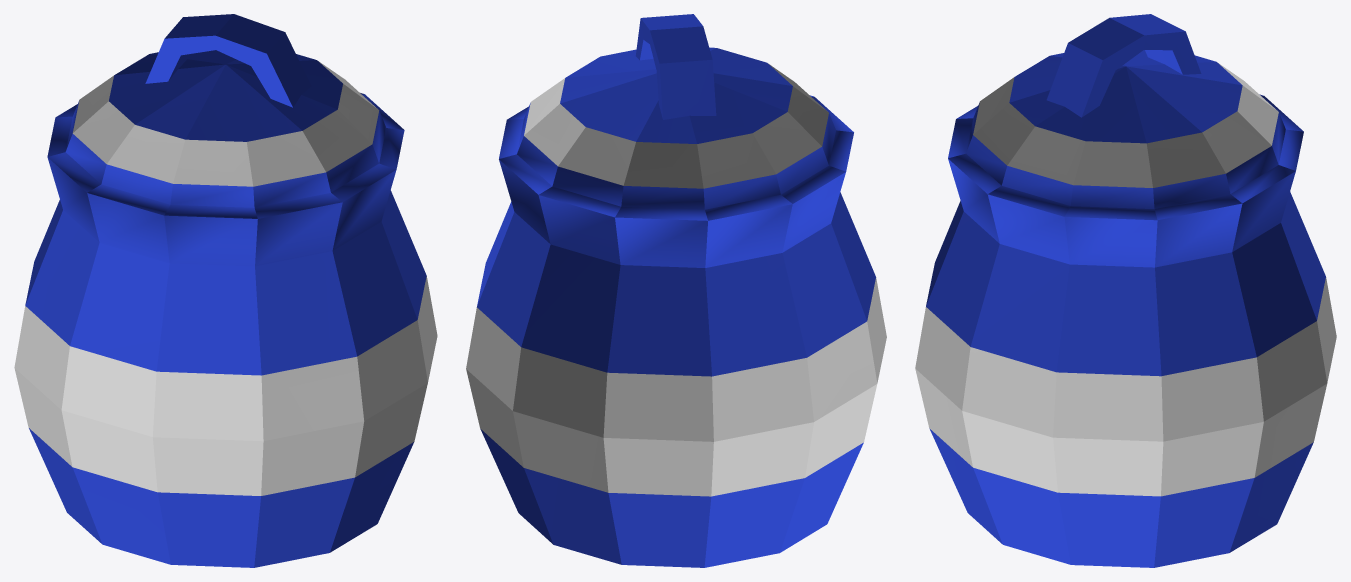
File: Jar 2.fbx
3 renders of one model, left to right at view 1: azimuth 30°, elevation 25°; view 2: azimuth 150°, elevation 25°; view 3: azimuth 270°, elevation 25°, orthographic.
Visible parts, largest first — view 1: Node 0; view 2: Node 0; view 3: Node 0.
Part boxes in pixels (x1,y1,x2,y2): Node 0: (14, 14, 437, 567); Node 0: (466, 14, 886, 567); Node 0: (915, 14, 1336, 567).
Size of the model in its own units: 0.4872 by 0.6046 by 0.4872.
